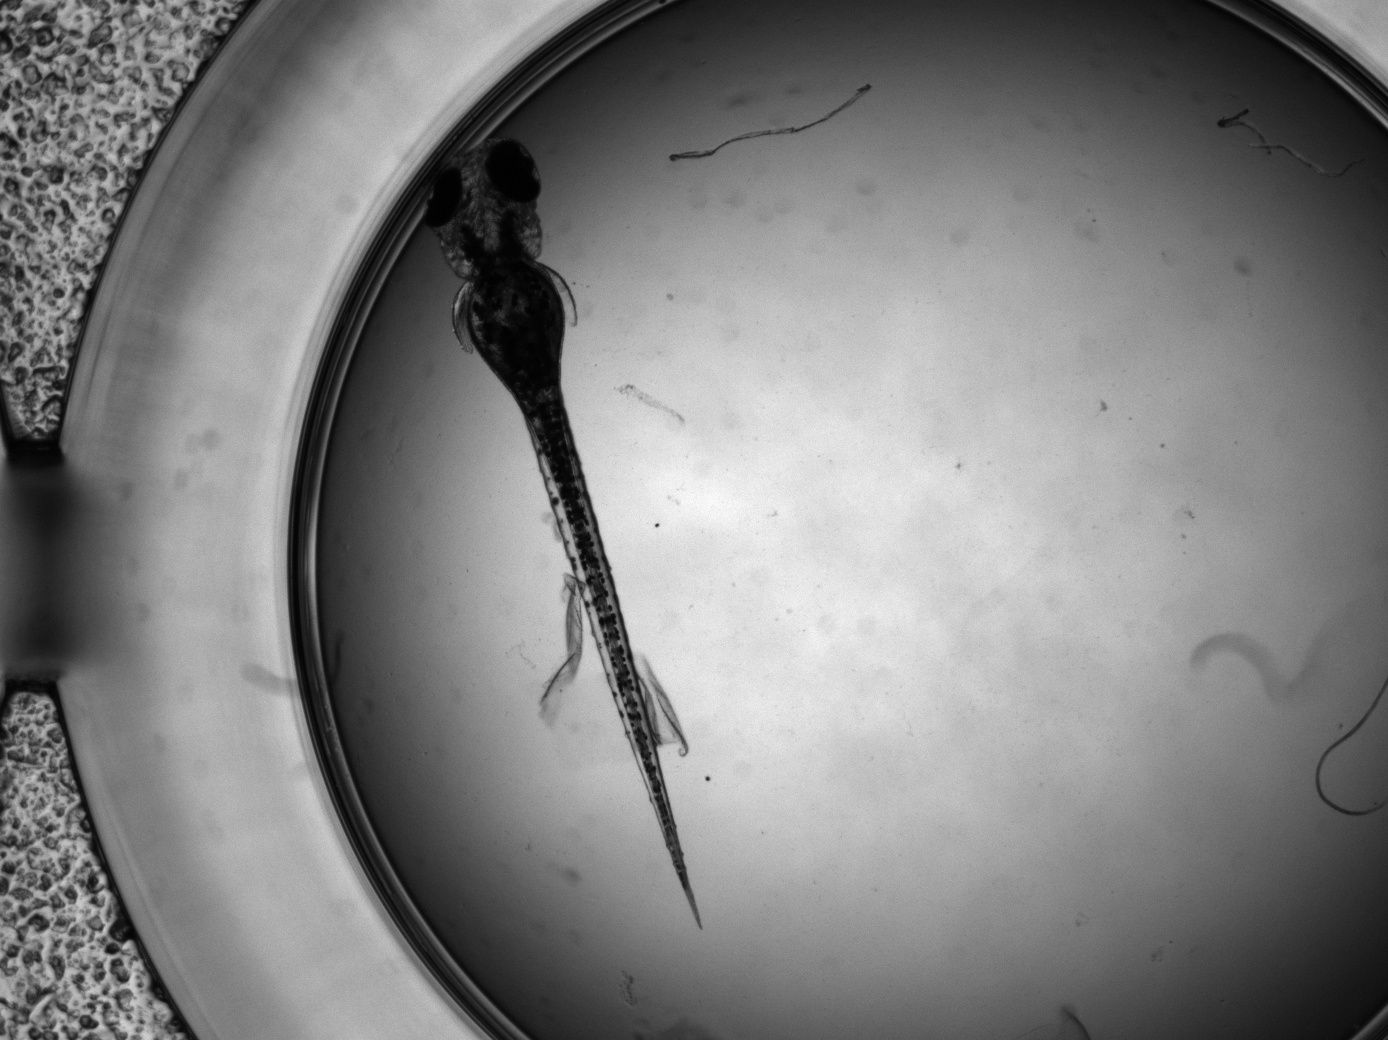debris: (668, 82, 874, 169), (1218, 106, 1367, 194), (536, 574, 584, 723)
embryo: (427, 137, 705, 933)
eye: (487, 139, 542, 204), (426, 164, 462, 228)
yolksac: (467, 262, 567, 391)
